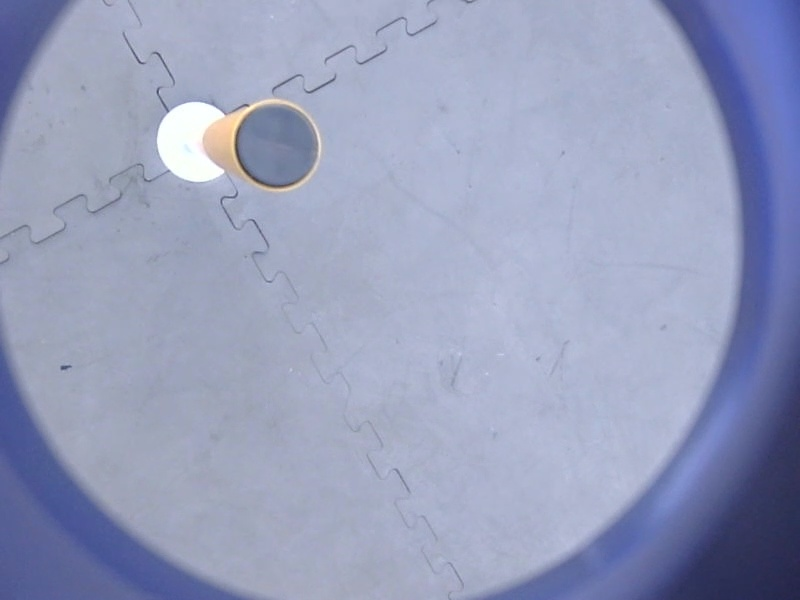tip: (227, 93, 327, 199)
